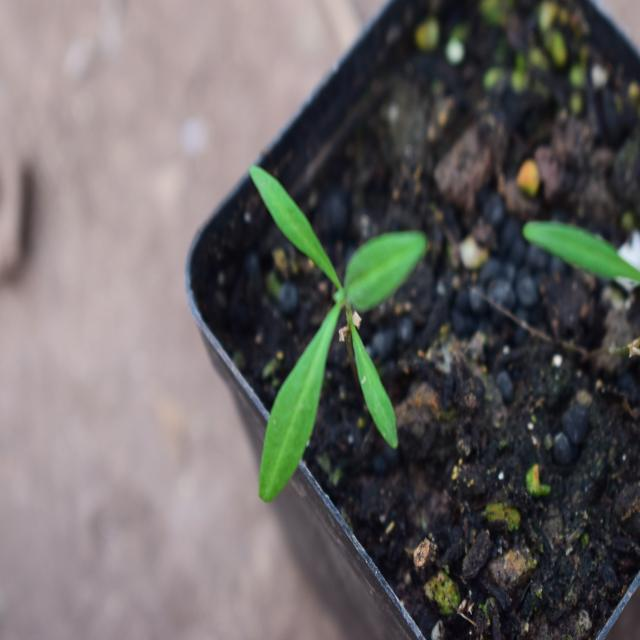white_smart_weed: (211, 174, 447, 515)
